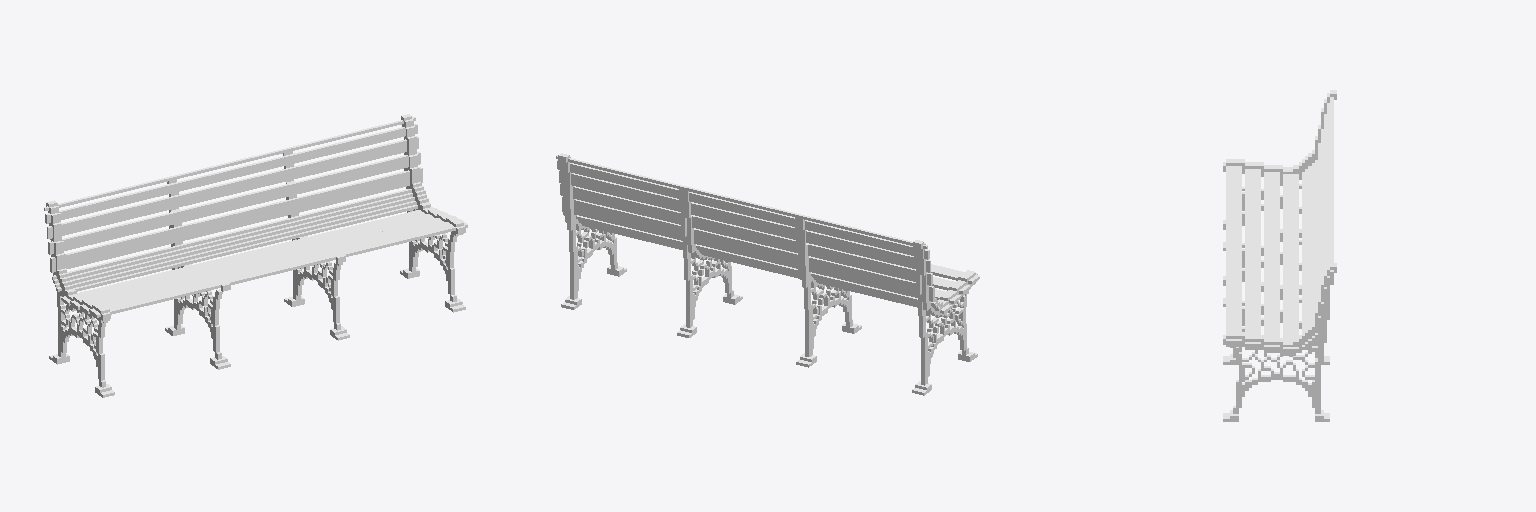
The model's file is banda_modelo_dos.obj.
3 views of the same model, side by side, from view 1: azimuth 30°, elevation 25°; view 2: azimuth 150°, elevation 25°; view 3: azimuth 270°, elevation 25° (orthographic).
Parts seen in each view (by area): view 1: Element__128, Element__129, Element__130, Element__119, Element__131, Element__120, Element__121, Element__122, Element__123, Element__124, Element__125, Element__127 (+2 smaller); view 2: Element__128, Element__130, Element__129, Element__131, Element__123, Element__126; view 3: Element__119, Element__120, Element__122, Element__121, Element__123, Element__125.
Part boxes in pixels (x1,y1,x2,y2): Element__128: (50, 167, 422, 272); Element__129: (48, 152, 420, 254); Element__130: (47, 136, 418, 238); Element__119: (89, 219, 467, 317); Element__131: (45, 124, 417, 223); Element__120: (80, 215, 451, 313); Element__121: (70, 211, 442, 309); Element__122: (61, 207, 432, 305); Element__123: (44, 117, 415, 210); Element__124: (56, 198, 428, 291); Element__125: (55, 194, 426, 287); Element__127: (53, 190, 425, 283); Element__128: (562, 197, 934, 301); Element__130: (559, 170, 930, 272); Element__129: (560, 184, 932, 285); Element__131: (557, 160, 929, 259); Element__123: (556, 155, 927, 248); Element__126: (564, 215, 935, 305); Element__119: (1226, 166, 1241, 343); Element__120: (1245, 169, 1260, 346); Element__122: (1283, 174, 1298, 351); Element__121: (1264, 172, 1279, 348); Element__123: (1330, 97, 1333, 274); Element__125: (1308, 166, 1311, 343).
Size of the model in its own units: 1.98 by 0.7874 by 0.525.